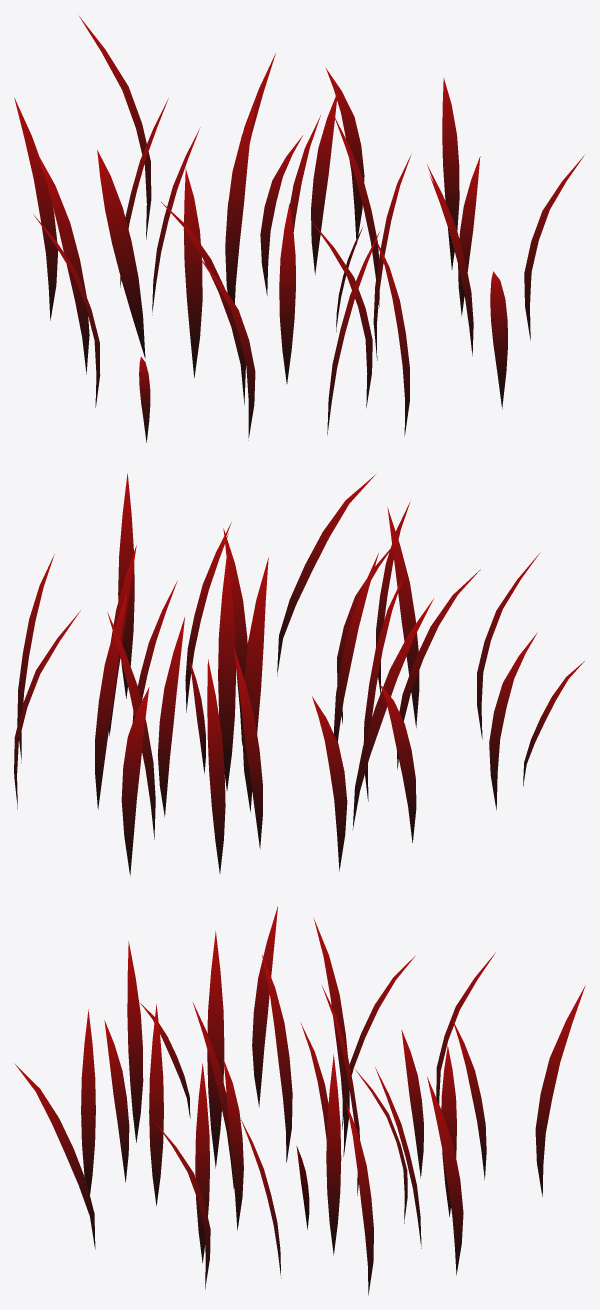
Rendered from GrassStylizedMesh.fbx.
3 views of the same model, one above another, from view 1: azimuth 30°, elevation 25°; view 2: azimuth 150°, elevation 25°; view 3: azimuth 270°, elevation 25° (orthographic). The views are drawn at different scales.
Parts seen in each view (by area): view 1: Grass; view 2: Grass; view 3: Grass.
Part boxes in pixels (x1=…): Grass: x1=14, y1=16, x2=584, y2=442; Grass: x1=14, y1=473, x2=584, y2=875; Grass: x1=14, y1=906, x2=585, y2=1295.
Size of the model in its own units: 2.88 by 1.39 by 3.32.
